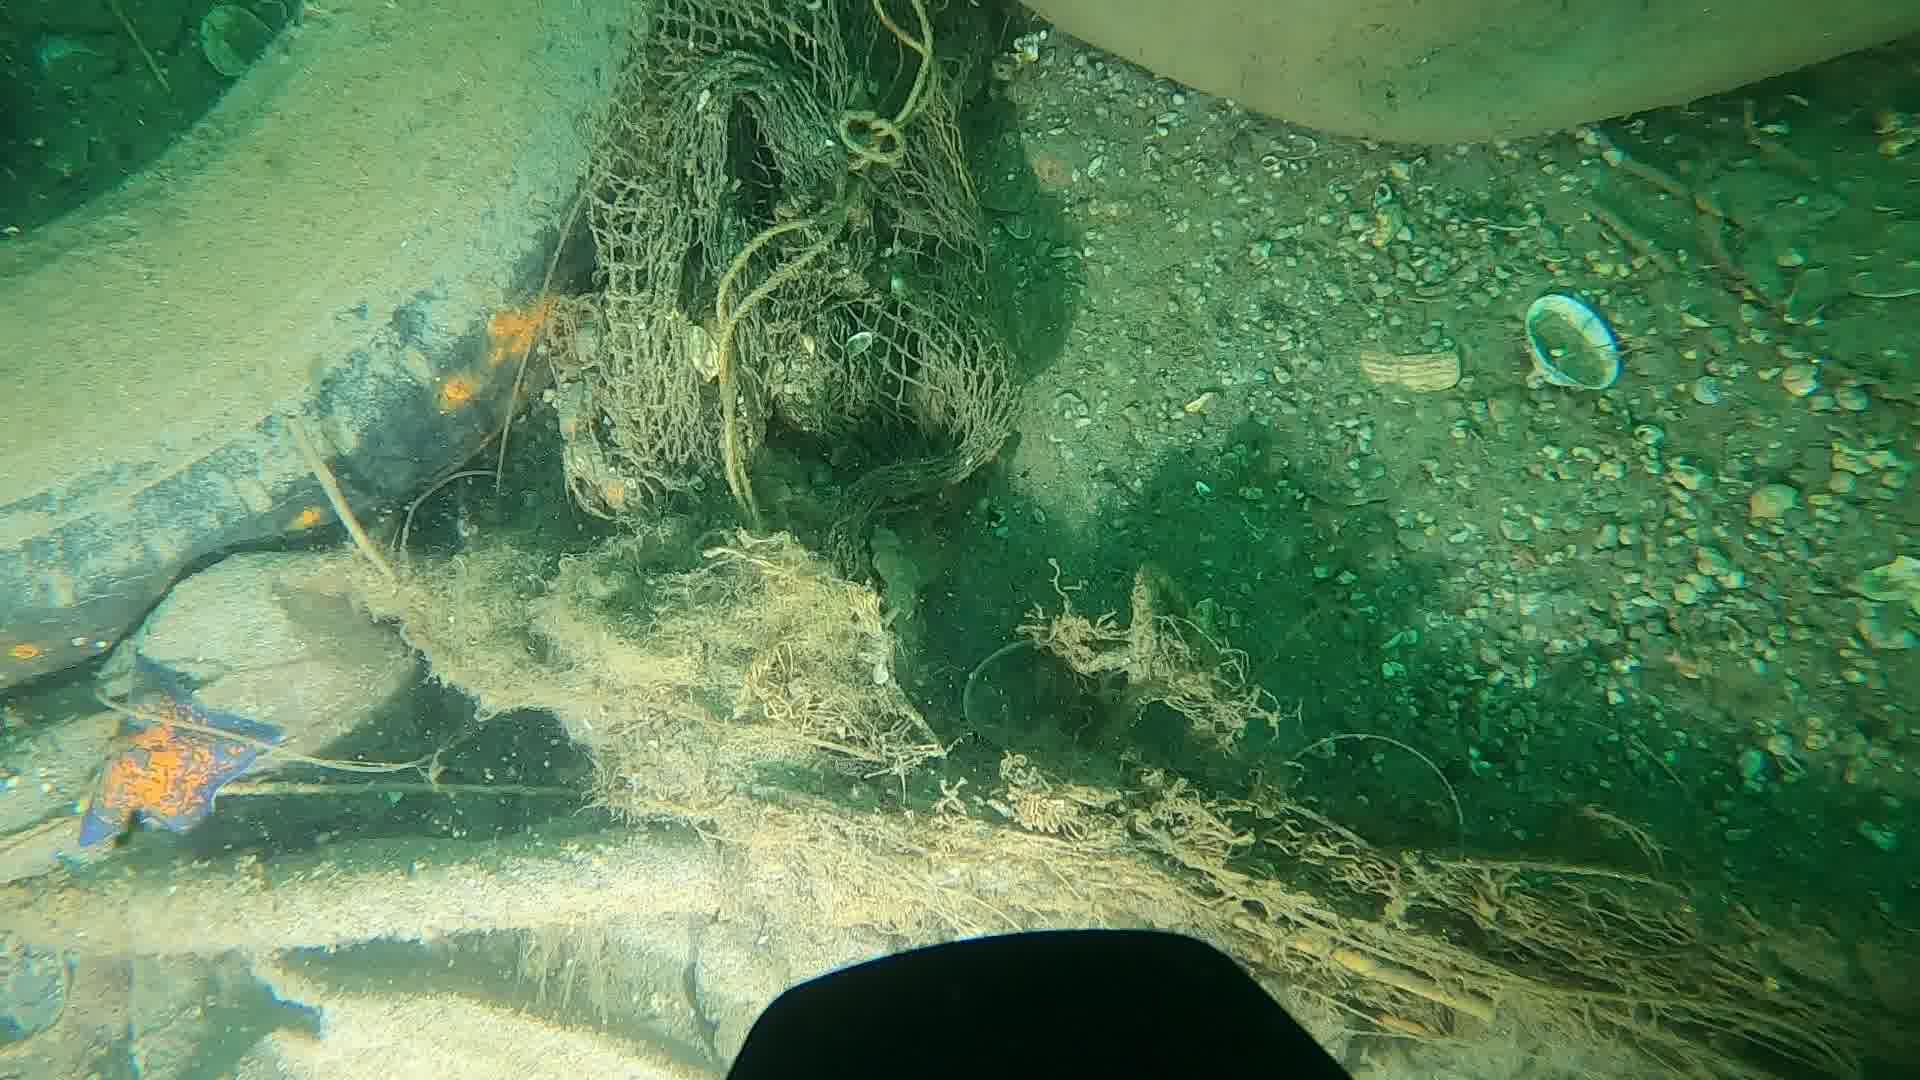fish net: (589, 0, 1025, 481)
tire: (0, 0, 649, 694)
